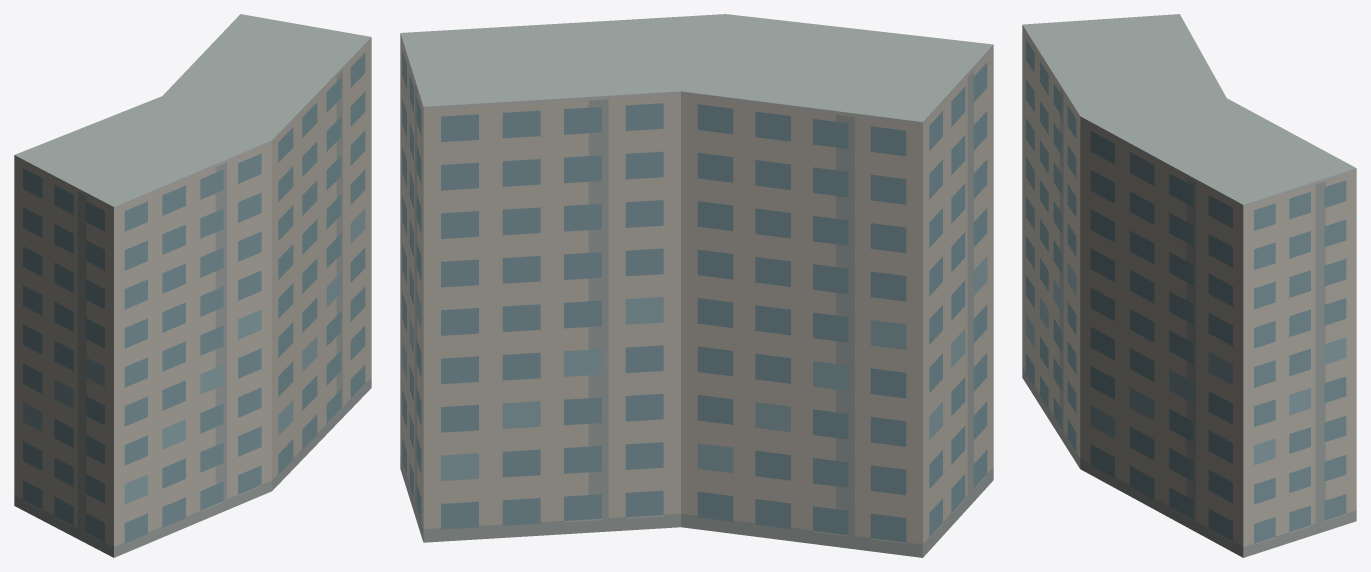
The model's file is residential-4a63b331-387e-47ed-9c3d-7d1aa5a9f778.glb.
3 renders of one model, left to right at view 1: azimuth 30°, elevation 25°; view 2: azimuth 150°, elevation 25°; view 3: azimuth 270°, elevation 25°, orthographic. The views are drawn at different scales.
Parts seen in each view (by area): view 1: residential-4a63b331-387e-47ed-9c3d-7d1aa5a9f778.tmp; view 2: residential-4a63b331-387e-47ed-9c3d-7d1aa5a9f778.tmp; view 3: residential-4a63b331-387e-47ed-9c3d-7d1aa5a9f778.tmp.
Part boxes in pixels (x1,y1,x2,y2): residential-4a63b331-387e-47ed-9c3d-7d1aa5a9f778.tmp: (14, 14, 371, 557); residential-4a63b331-387e-47ed-9c3d-7d1aa5a9f778.tmp: (400, 14, 993, 557); residential-4a63b331-387e-47ed-9c3d-7d1aa5a9f778.tmp: (1022, 14, 1356, 557).
Bounding box in the file's own units: 33.66 × 29 × 24.91.
